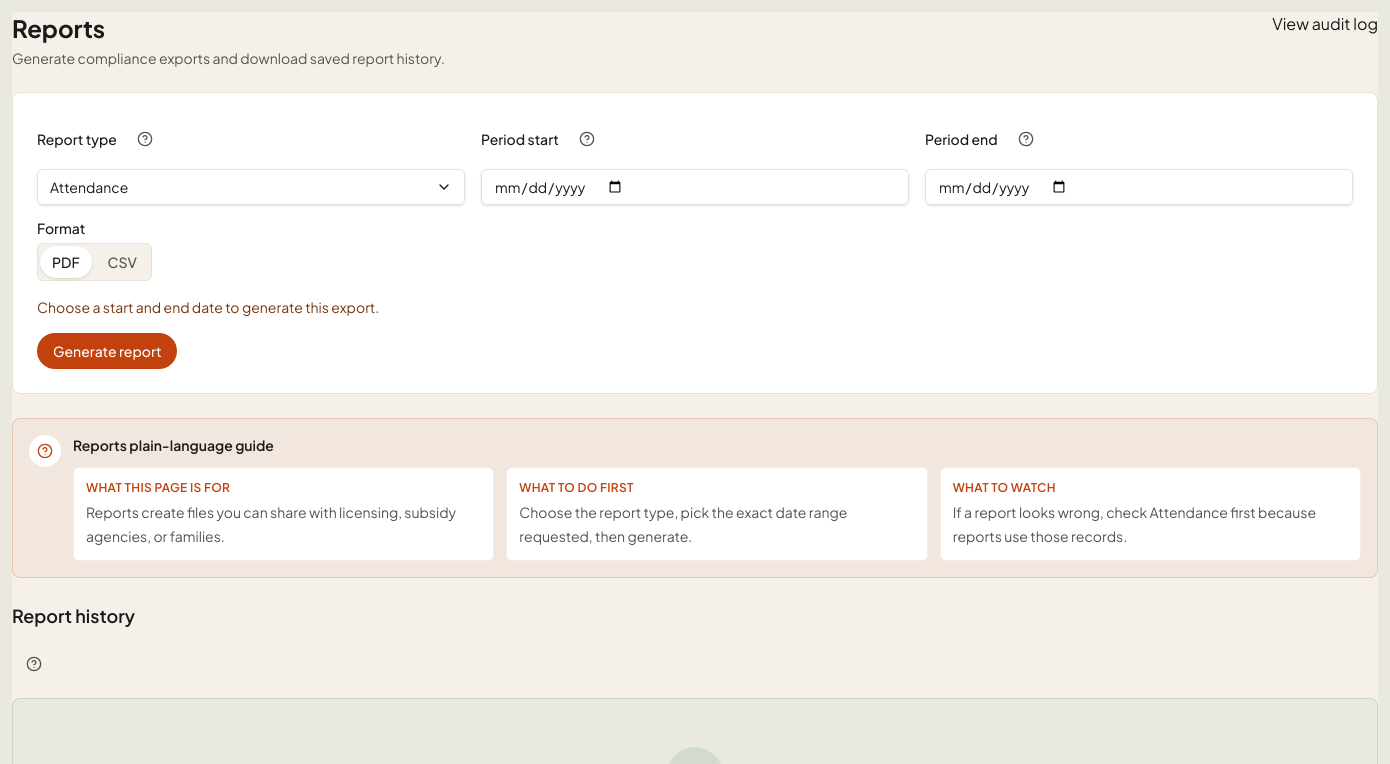
Test case: ReportsPage hasBothDates validation › enables Generate when both dates are valid ISO strings
The image size is (1390, 764).
Type "2026-04-01" into the date field labelled "Period start".
click(695, 187); type("2026-04-01")  # box [481,169,909,205]
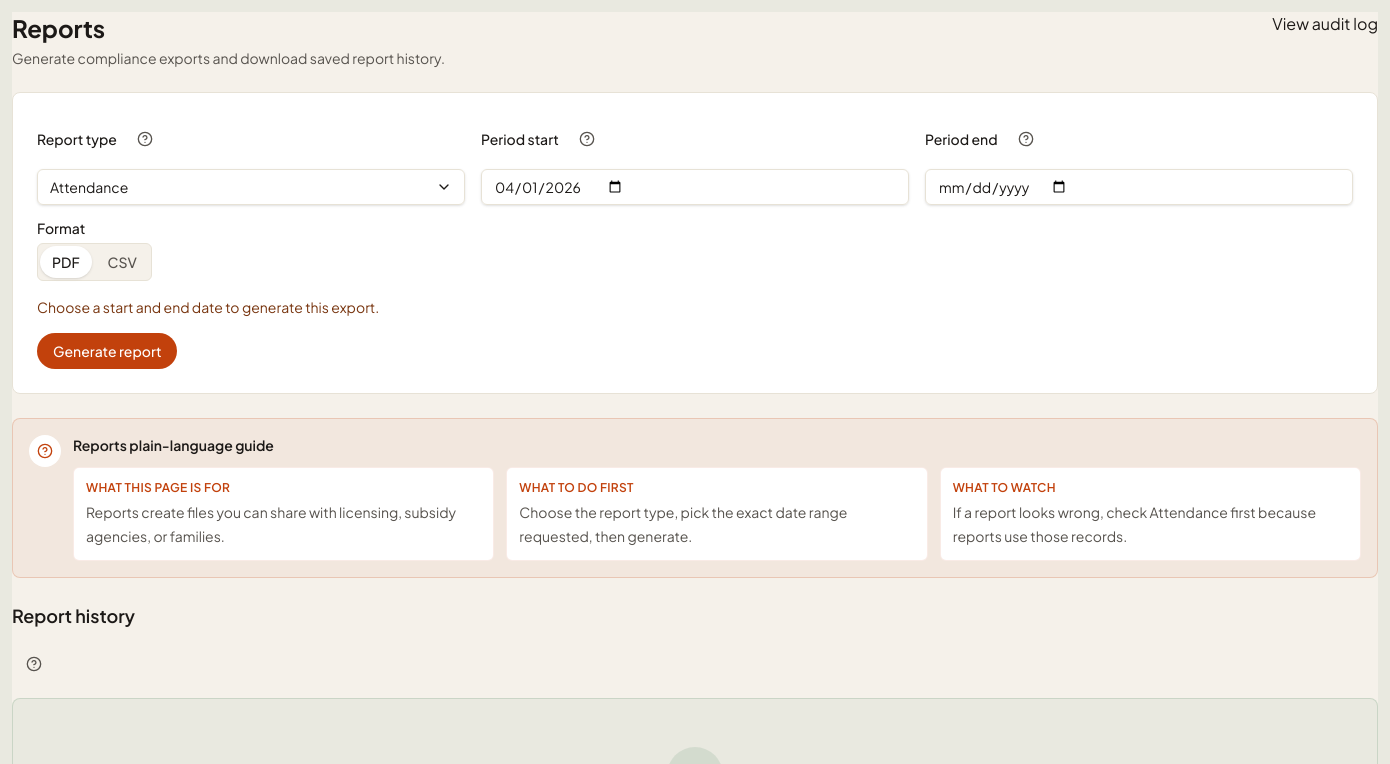
Type "2026-04-30" into the date field labelled "Period end".
click(1139, 187); type("2026-04-30")  # box [925,169,1353,205]
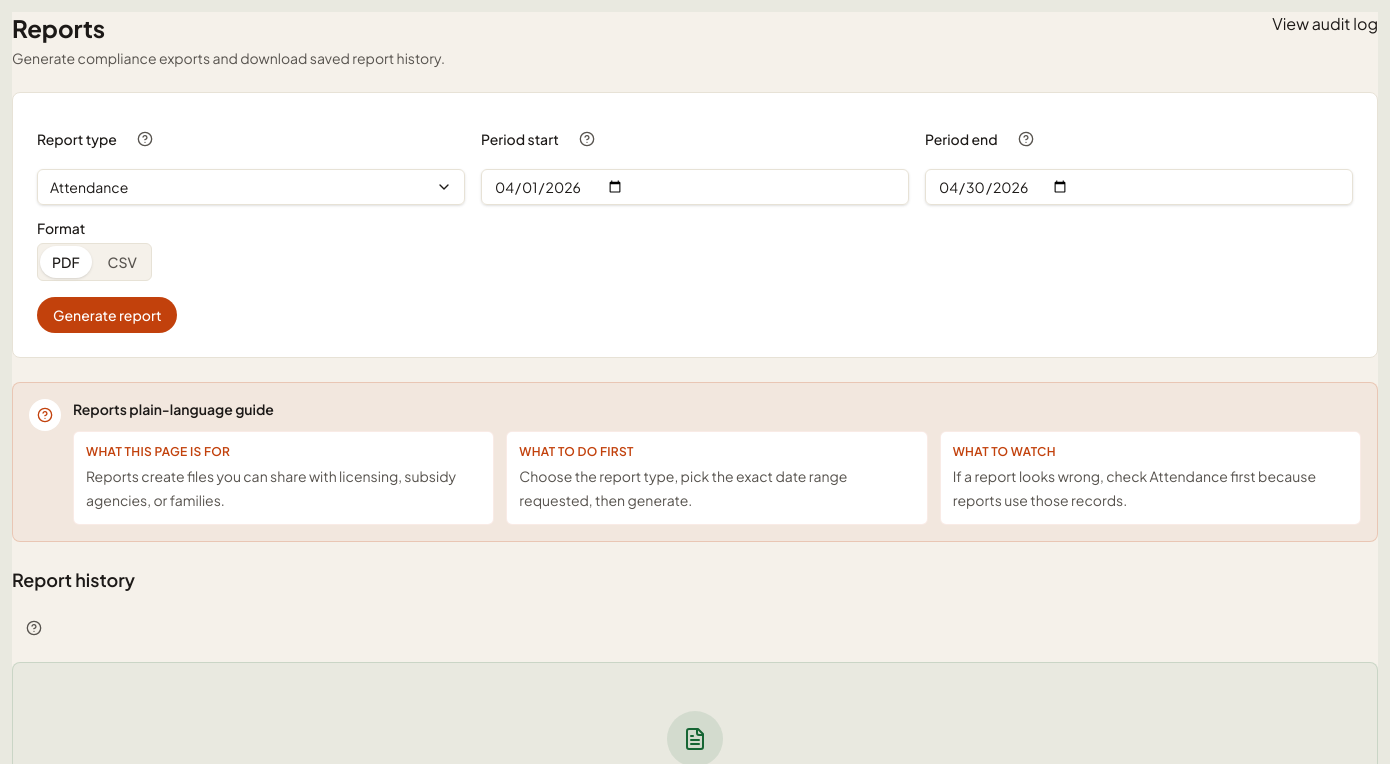
Now the button "Generate report" is enabled, box [37,297,178,333]
